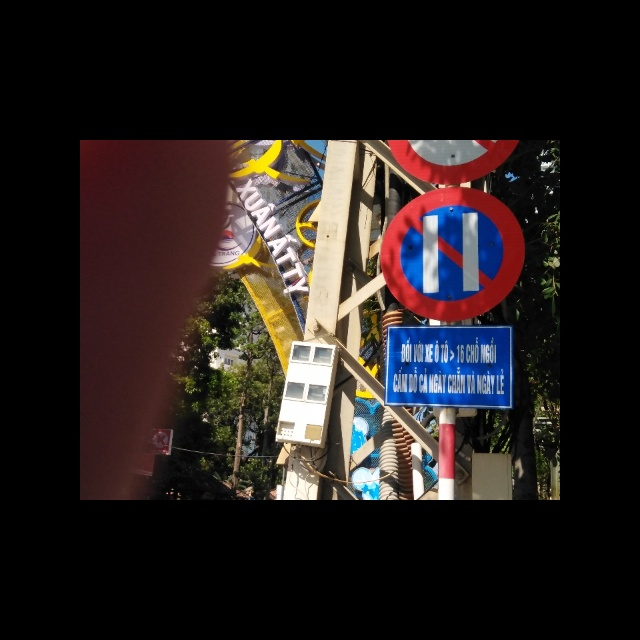Cấm đỗ xe ngày chẵn: (379, 190, 526, 330)
